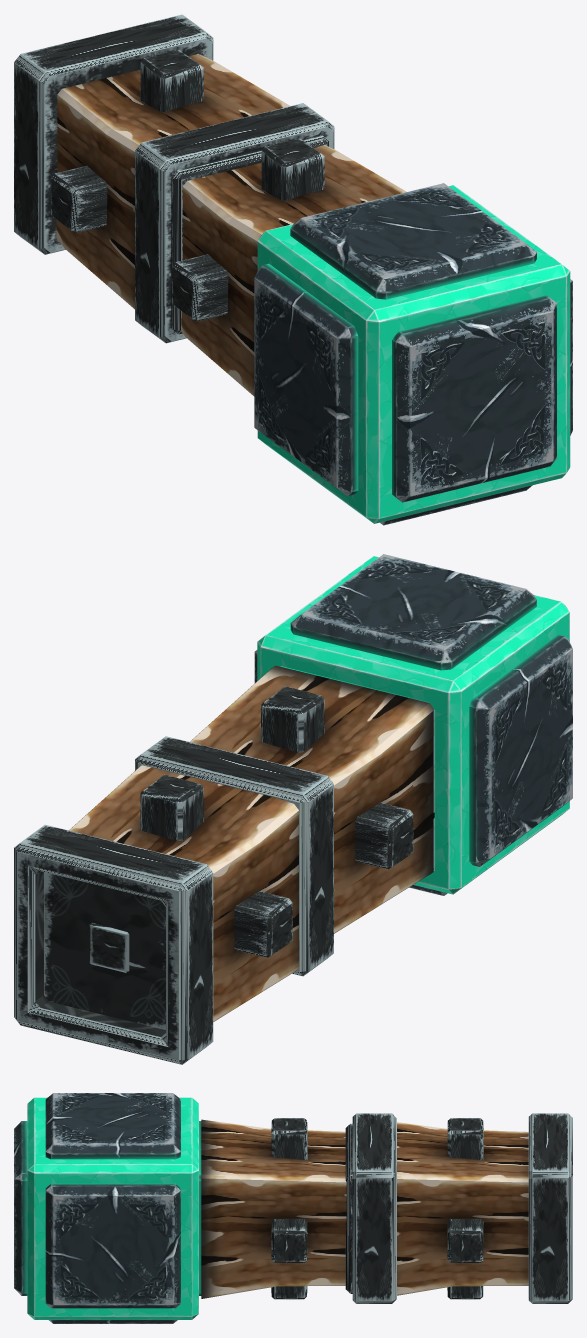
Rendered from step_003.glb.
The picture shows the model from 3 angles, top to bottom: view 1: azimuth 30°, elevation 25°; view 2: azimuth 150°, elevation 25°; view 3: azimuth 270°, elevation 25°; orthographic projection. The views are drawn at different scales.
Visible parts, largest first — view 1: StartingBlock_5981b675-4962-40d2-be6b-1e731c08b273, SingleWoodenBlock_33ddfdaf-ce25-47ce-b923-c565c7fc25bf; view 2: SingleWoodenBlock_33ddfdaf-ce25-47ce-b923-c565c7fc25bf, StartingBlock_5981b675-4962-40d2-be6b-1e731c08b273; view 3: SingleWoodenBlock_33ddfdaf-ce25-47ce-b923-c565c7fc25bf, StartingBlock_5981b675-4962-40d2-be6b-1e731c08b273.
Boxes of the visible parts, x1,y1,x2,y2 form: StartingBlock_5981b675-4962-40d2-be6b-1e731c08b273: (254,183,572,525); SingleWoodenBlock_33ddfdaf-ce25-47ce-b923-c565c7fc25bf: (14,14,406,396); SingleWoodenBlock_33ddfdaf-ce25-47ce-b923-c565c7fc25bf: (14,665,434,1064); StartingBlock_5981b675-4962-40d2-be6b-1e731c08b273: (254,554,572,895); SingleWoodenBlock_33ddfdaf-ce25-47ce-b923-c565c7fc25bf: (201,1113,572,1303); StartingBlock_5981b675-4962-40d2-be6b-1e731c08b273: (14,1093,201,1323).
Size of the model in its own units: 1.13 by 1.13 by 3.17.
2 materials, 2 textured.
